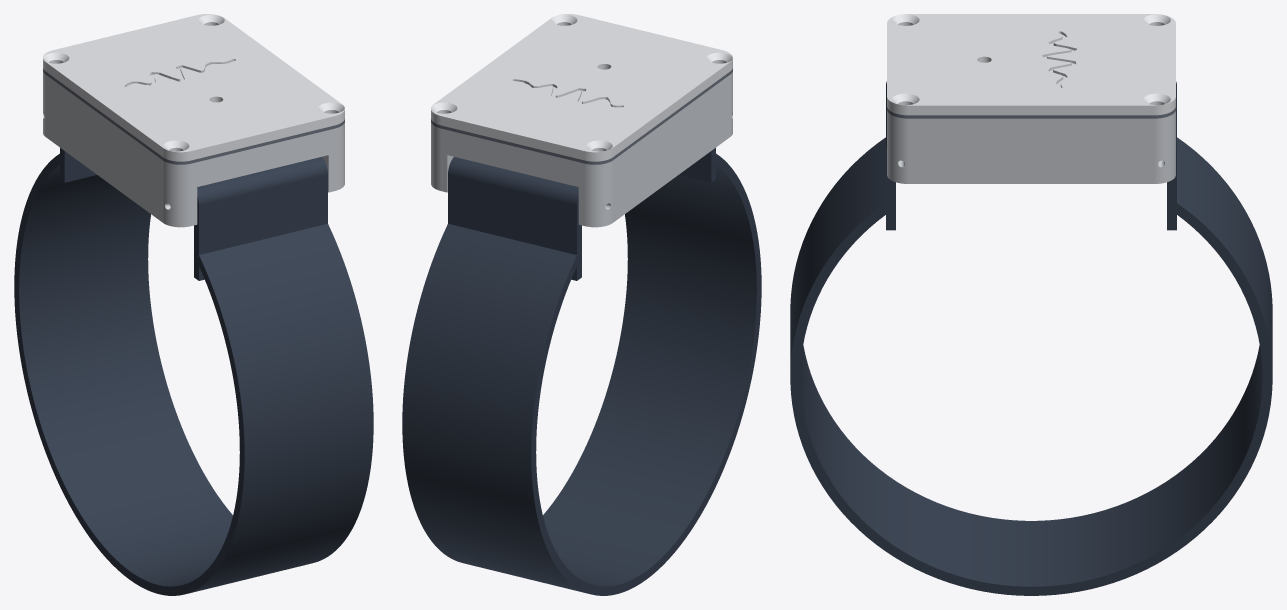
3 renders of one model, left to right at view 1: azimuth 30°, elevation 25°; view 2: azimuth 150°, elevation 25°; view 3: azimuth 270°, elevation 25°, orthographic. The views are drawn at different scales.
Parts seen in each view (by area): view 1: Textile strap, Enclosure lid, Enclosure base, TPU gasket; view 2: Textile strap, Enclosure lid, Enclosure base, TPU gasket; view 3: Textile strap, Enclosure lid, Enclosure base, TPU gasket.
Boxes of the visible parts, x1=… form: Textile strap: x1=14, y1=148, x2=373, y2=595; Enclosure lid: x1=43, y1=14, x2=344, y2=161; Enclosure base: x1=43, y1=71, x2=344, y2=227; TPU gasket: x1=43, y1=68, x2=344, y2=164; Textile strap: x1=402, y1=148, x2=761, y2=595; Enclosure lid: x1=431, y1=14, x2=732, y2=161; Enclosure base: x1=431, y1=71, x2=732, y2=227; TPU gasket: x1=431, y1=68, x2=732, y2=164; Textile strap: x1=790, y1=81, x2=1272, y2=595; Enclosure lid: x1=887, y1=14, x2=1175, y2=115; Enclosure base: x1=887, y1=110, x2=1175, y2=183; TPU gasket: x1=887, y1=107, x2=1175, y2=118.
Bounding box in the file's own units: 0.03 × 0.0769 × 0.0668.
